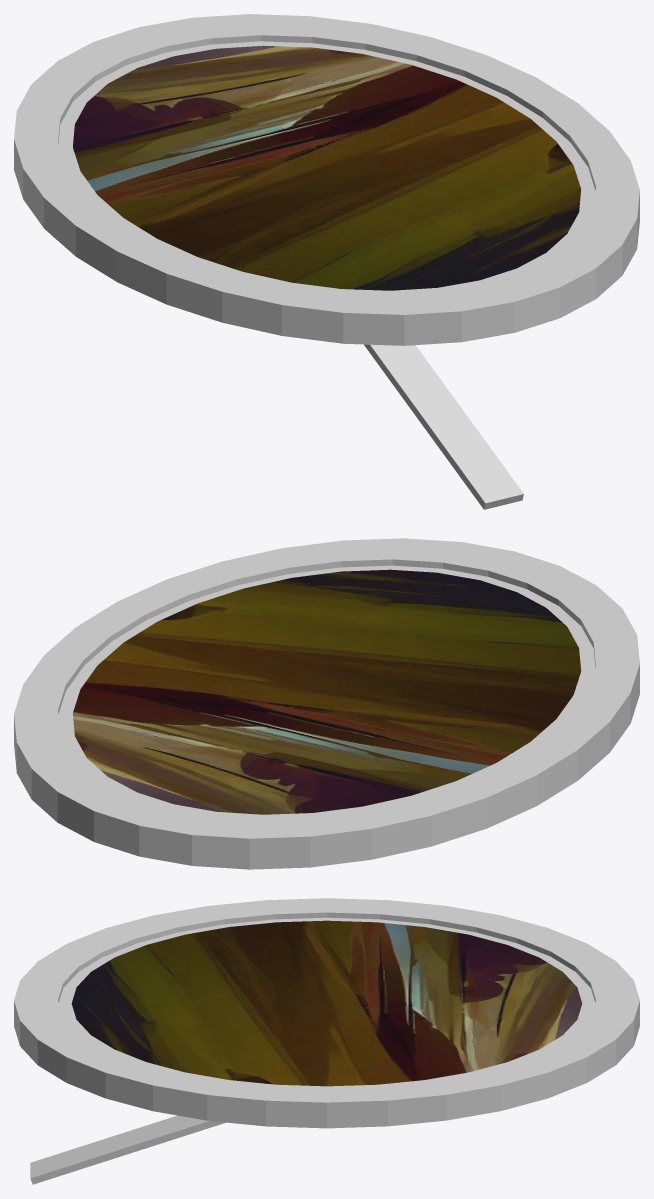
File: PhotoFrameV2.fbx
3 renders of one model, top to bottom at view 1: azimuth 30°, elevation 25°; view 2: azimuth 150°, elevation 25°; view 3: azimuth 270°, elevation 25°, orthographic. The views are drawn at different scales.
Parts seen in each view (by area): view 1: PhotoFrameV2; view 2: PhotoFrameV2; view 3: PhotoFrameV2.
Part boxes in pixels (x1,y1,x2,y2): PhotoFrameV2: [14, 14, 639, 509]; PhotoFrameV2: [14, 538, 639, 869]; PhotoFrameV2: [14, 898, 639, 1184].
Bounding box in the file's own units: 26.08 × 10.51 × 33.75.
